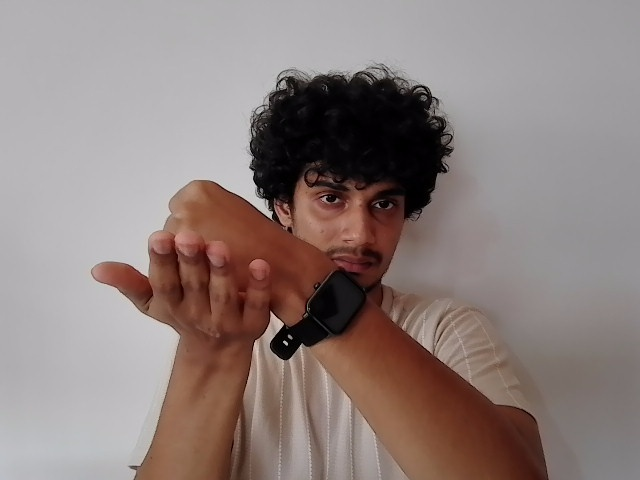help: (93, 176, 296, 340)
